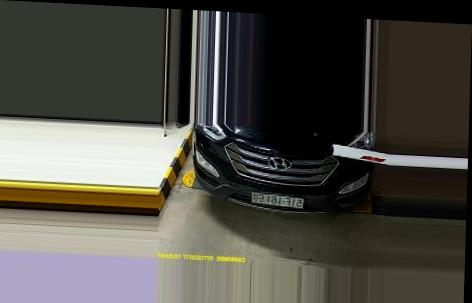License_Plate: (251, 190, 303, 207)
